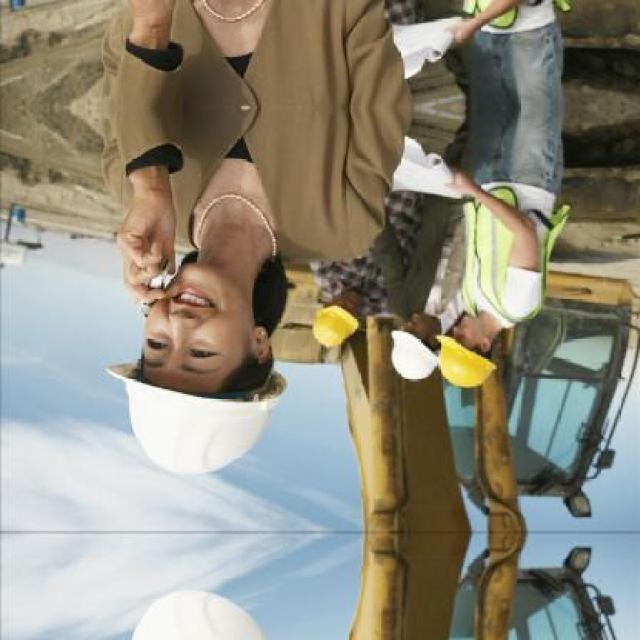safetyhelmet: (107, 364, 286, 472), (133, 589, 264, 639), (437, 335, 496, 386), (391, 330, 438, 380), (313, 304, 358, 346)
